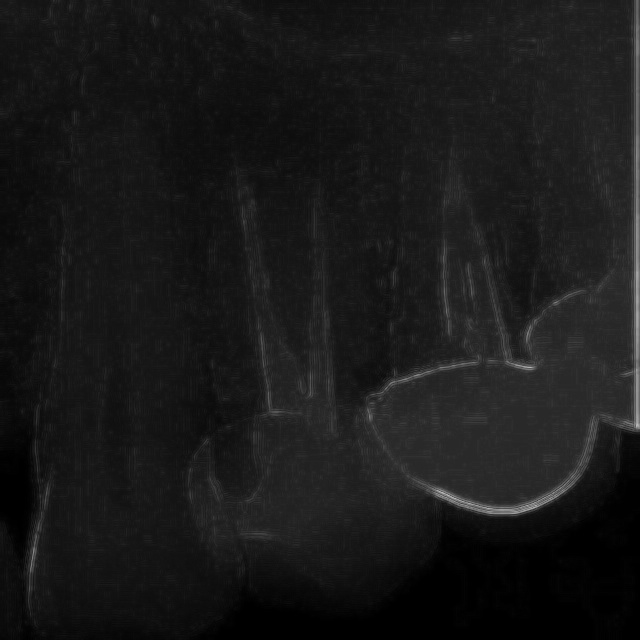Class 0- No endodontic treatment: (168, 132, 420, 498)
Class 1- complete endodontic treatment: (340, 51, 616, 536)
cavity: (13, 19, 244, 636)
